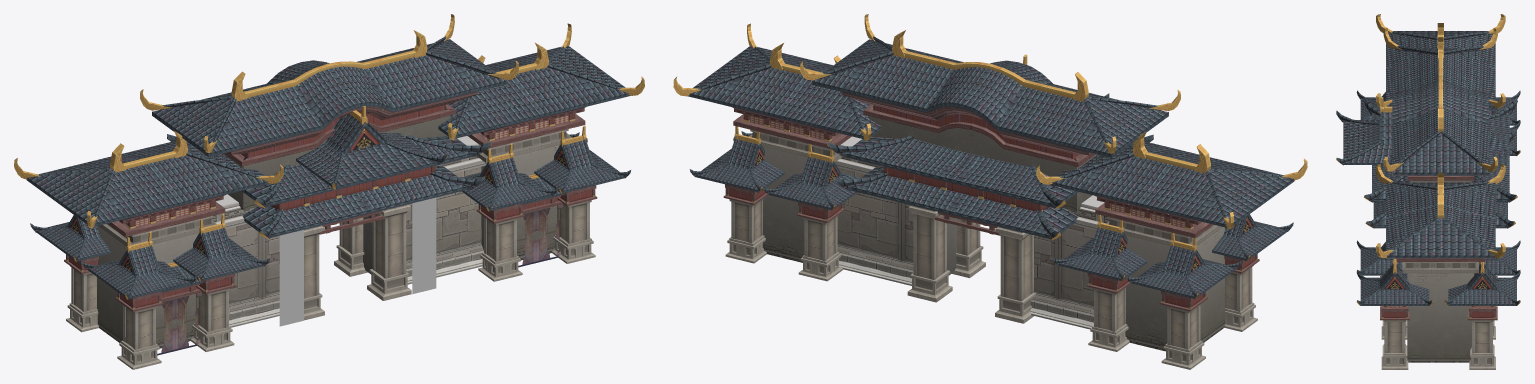
The model's file is mod_zlc_jianzhu018_xy.FBX.
3 renders of one model, left to right at view 1: azimuth 30°, elevation 25°; view 2: azimuth 150°, elevation 25°; view 3: azimuth 270°, elevation 25°, orthographic. The views are drawn at different scales.
Visible parts, largest first — view 1: Object004, Object003; view 2: Object004, Object003; view 3: Object004, Object003.
Part boxes in pixels (left/top/right/bottom): Object004: left=14, top=23, right=644, bottom=369; Object003: left=140, top=14, right=518, bottom=326; Object004: left=673, top=23, right=1307, bottom=369; Object003: left=800, top=14, right=1180, bottom=323; Object004: left=1356, top=14, right=1520, bottom=369; Object003: left=1336, top=28, right=1517, bottom=228.
Size of the model in its own units: 6705 by 2739 by 2258.
